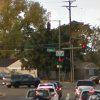Car: (7, 66, 42, 93)
